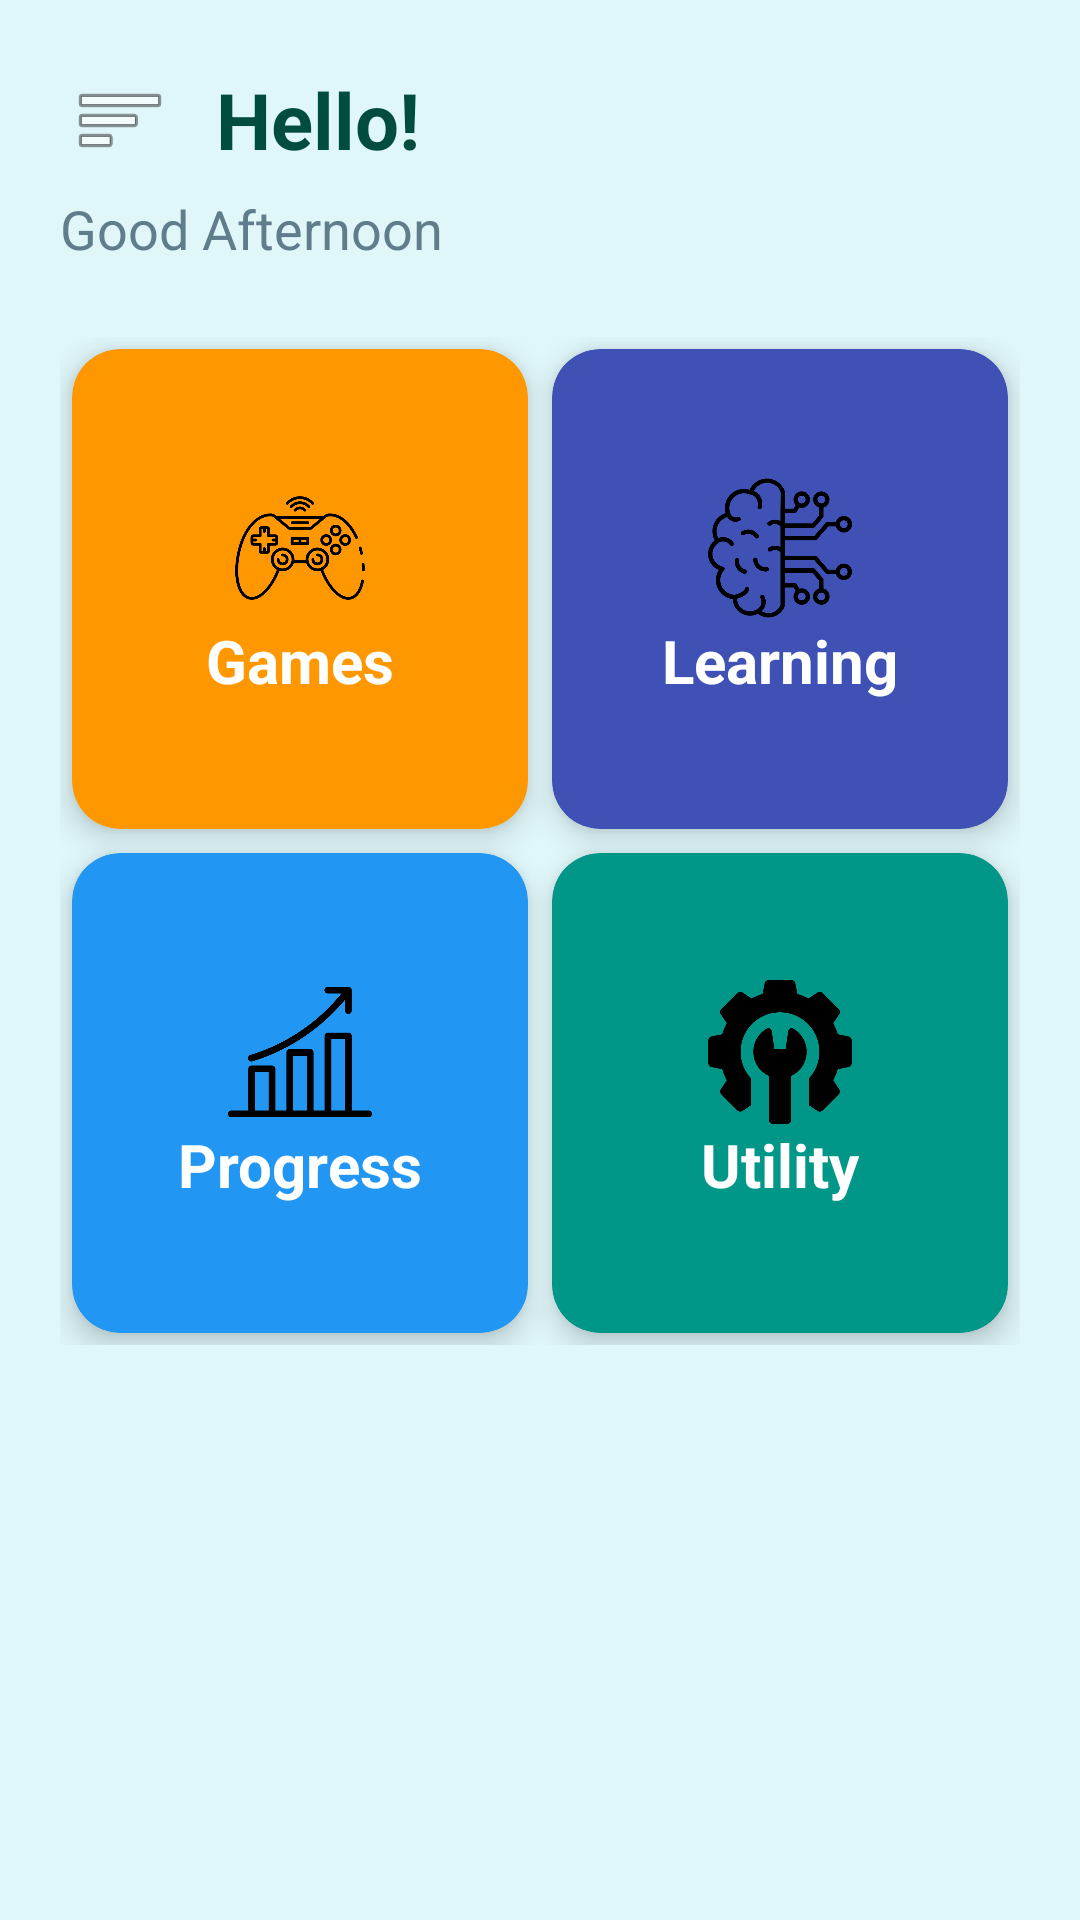

Screen size 1080px x 1920px. Icon name, then its center in pixels as [x,y]:
sort by size: [120,120]
